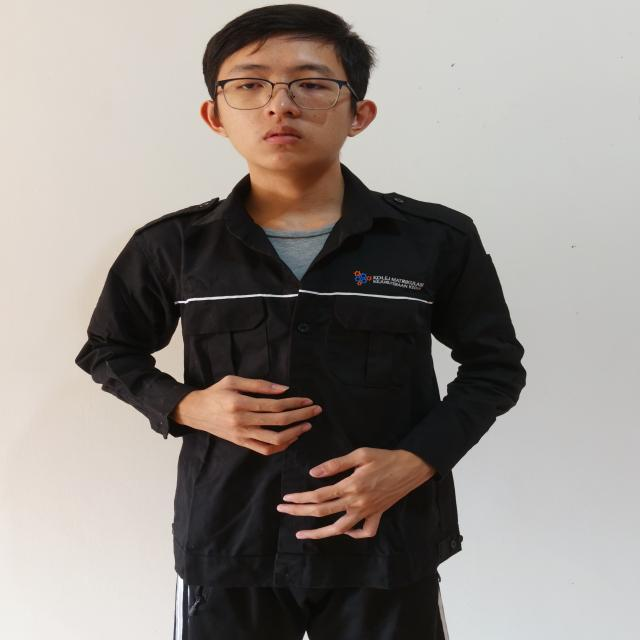person_with_labcoat: (77, 5, 525, 640), (215, 327, 368, 379)
